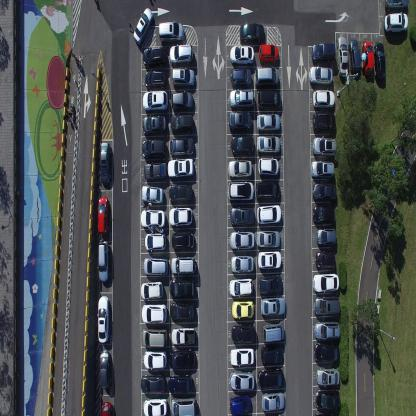car: (133, 5, 153, 46), (97, 294, 110, 343), (167, 372, 193, 395), (228, 370, 255, 392), (167, 158, 194, 180), (313, 341, 340, 363), (239, 21, 264, 44), (169, 276, 195, 298), (256, 204, 282, 226), (228, 182, 254, 204), (170, 348, 196, 370), (142, 89, 168, 111), (97, 238, 110, 282), (158, 22, 184, 44), (314, 296, 340, 318), (256, 369, 284, 389), (384, 11, 408, 34), (142, 326, 167, 348), (230, 134, 255, 156), (229, 44, 254, 66), (254, 66, 279, 88), (311, 42, 336, 64), (312, 181, 337, 203), (315, 390, 340, 412), (260, 297, 286, 318), (257, 274, 283, 295), (170, 326, 196, 347), (140, 208, 166, 229), (168, 44, 194, 65), (336, 35, 349, 77), (96, 194, 109, 235), (231, 298, 255, 320), (169, 205, 193, 227), (256, 180, 280, 202), (142, 114, 166, 136), (228, 110, 252, 132), (142, 45, 166, 67), (312, 110, 336, 132), (170, 231, 195, 252), (170, 137, 195, 158), (141, 138, 166, 159), (140, 372, 165, 393), (229, 89, 254, 110), (257, 89, 282, 110), (315, 320, 340, 341), (98, 349, 111, 389), (141, 303, 167, 323), (170, 301, 196, 321), (170, 396, 197, 415), (312, 273, 339, 292), (171, 114, 194, 136), (310, 66, 333, 88), (312, 88, 335, 110), (313, 136, 336, 158), (257, 250, 281, 271), (230, 206, 254, 227), (170, 90, 194, 111), (256, 134, 280, 155), (171, 67, 195, 88), (229, 229, 254, 249), (170, 255, 195, 275), (143, 256, 168, 276), (100, 141, 111, 186), (229, 394, 251, 416), (261, 391, 284, 412), (312, 205, 335, 226), (230, 346, 254, 366), (229, 276, 253, 296), (256, 230, 280, 250), (228, 160, 252, 180), (231, 323, 255, 343), (143, 350, 167, 370), (140, 280, 164, 300), (256, 112, 280, 132), (316, 368, 340, 388), (374, 42, 386, 82), (142, 397, 168, 415), (262, 323, 284, 344), (258, 156, 279, 178), (258, 43, 280, 64), (315, 249, 336, 271), (260, 345, 283, 365), (144, 69, 167, 89), (311, 160, 334, 180), (230, 254, 254, 273), (169, 183, 193, 202), (230, 68, 252, 88), (141, 185, 164, 204), (349, 38, 361, 74), (362, 40, 374, 76), (144, 232, 166, 251), (144, 162, 167, 180), (316, 227, 337, 246), (384, 0, 409, 10), (100, 400, 113, 416)
